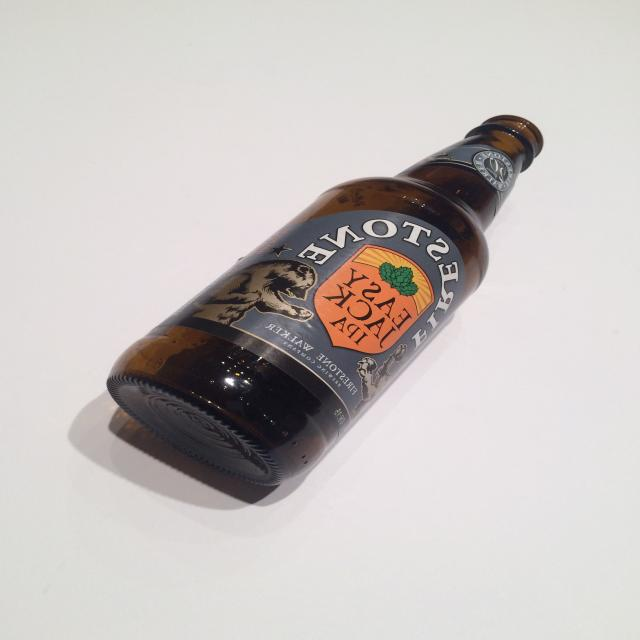glass: (105, 113, 545, 500)
